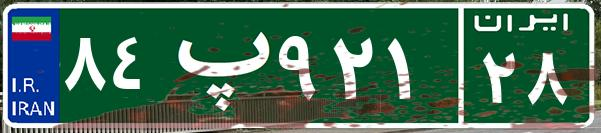1: (385, 28, 445, 110)
2: (330, 28, 385, 110), (475, 38, 525, 113)
4: (110, 28, 158, 105)
8: (57, 26, 110, 107), (525, 38, 570, 115)
9: (273, 28, 330, 110)
پ: (158, 15, 273, 115)
